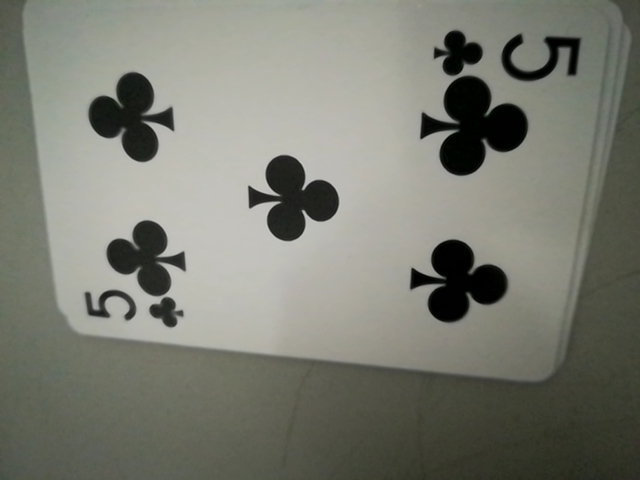mh 5: (430, 22, 584, 81), (76, 283, 189, 336)
